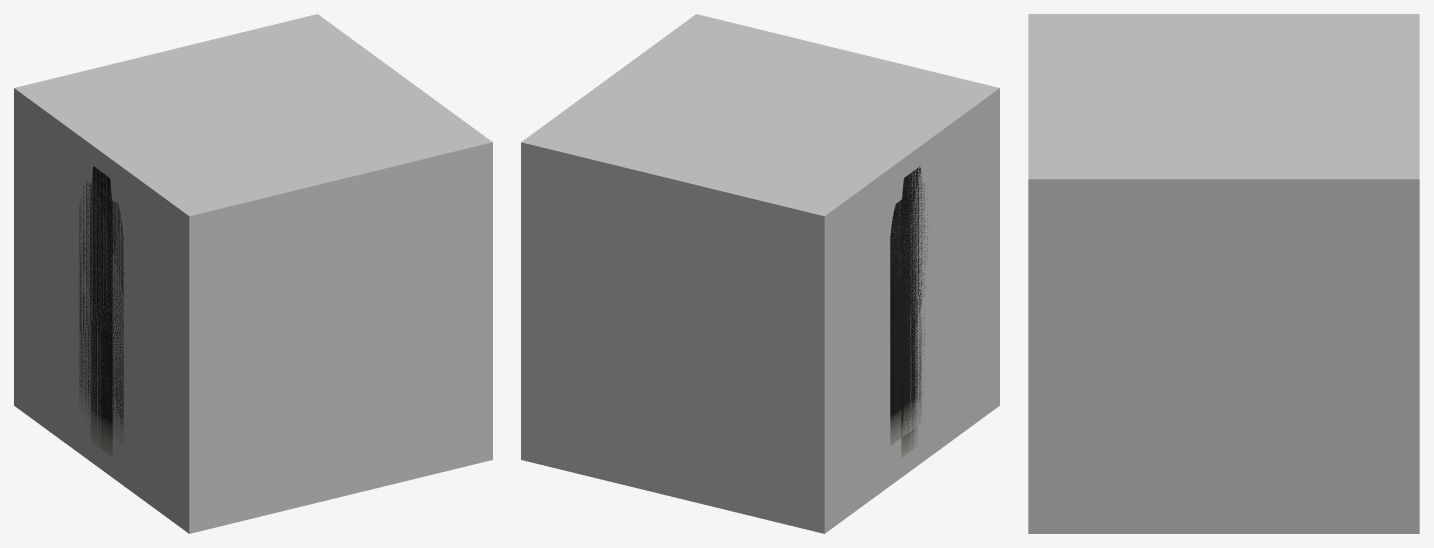
File: EmergencyExitLighting.obj
3 renders of one model, left to right at view 1: azimuth 30°, elevation 25°; view 2: azimuth 150°, elevation 25°; view 3: azimuth 270°, elevation 25°, orthographic. The views are drawn at different scales.
Visible parts, largest first — view 1: Minecraft_Block_Cube, Minecraft_2_Edge_Connectivity_Cube.002, coreCeil, coreWall; view 2: Minecraft_Block_Cube, Minecraft_2_Edge_Connectivity_Cube.002, coreWall, coreCeil; view 3: Minecraft_Block_Cube.
Boxes of the visible parts, <box> form: Minecraft_Block_Cube: <box>14,14,492,533</box>; Minecraft_2_Edge_Connectivity_Cube.002: <box>14,88,339,533</box>; coreCeil: <box>90,166,112,457</box>; coreWall: <box>79,181,123,445</box>; Minecraft_Block_Cube: <box>521,14,999,533</box>; Minecraft_2_Edge_Connectivity_Cube.002: <box>674,88,999,533</box>; coreWall: <box>890,184,927,445</box>; coreCeil: <box>901,166,923,457</box>; Minecraft_Block_Cube: <box>1028,14,1419,533</box>.
Size of the model in its own units: 1 by 1 by 1.
